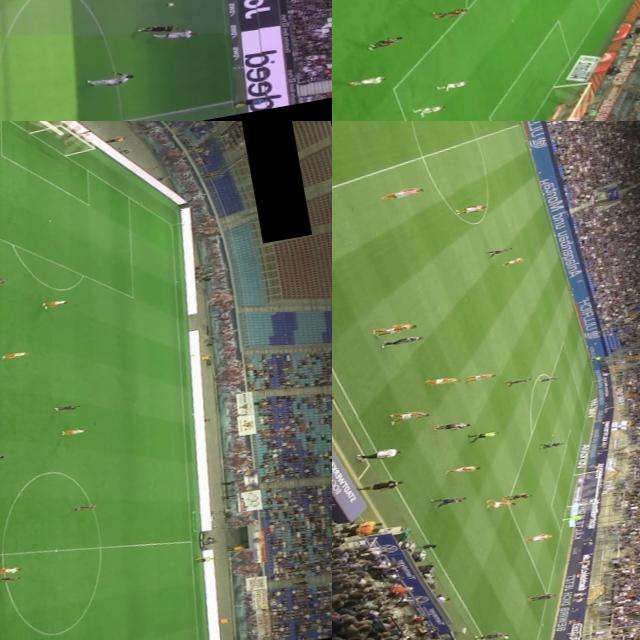ball: (501, 634, 514, 640), (165, 0, 174, 7)
player: (81, 70, 132, 92), (152, 25, 194, 44), (130, 20, 174, 38), (376, 332, 425, 348), (388, 405, 429, 424), (381, 184, 424, 200), (346, 72, 384, 90), (364, 35, 404, 52), (408, 102, 448, 119), (434, 77, 474, 94), (370, 322, 416, 336), (430, 4, 469, 20), (431, 494, 469, 508), (446, 461, 480, 476), (482, 496, 515, 511), (423, 376, 458, 388), (434, 419, 466, 432), (526, 530, 553, 544), (38, 298, 69, 309), (530, 590, 560, 601), (473, 630, 506, 640), (502, 491, 532, 502), (466, 371, 496, 382), (59, 424, 86, 436), (0, 563, 24, 575), (52, 402, 80, 412), (1, 350, 28, 360), (0, 572, 20, 585), (562, 512, 585, 522), (454, 205, 484, 212), (504, 378, 530, 386), (499, 256, 524, 264), (75, 504, 99, 512), (488, 247, 514, 254), (542, 441, 564, 449), (0, 452, 9, 464), (0, 276, 8, 289), (538, 378, 558, 382)
